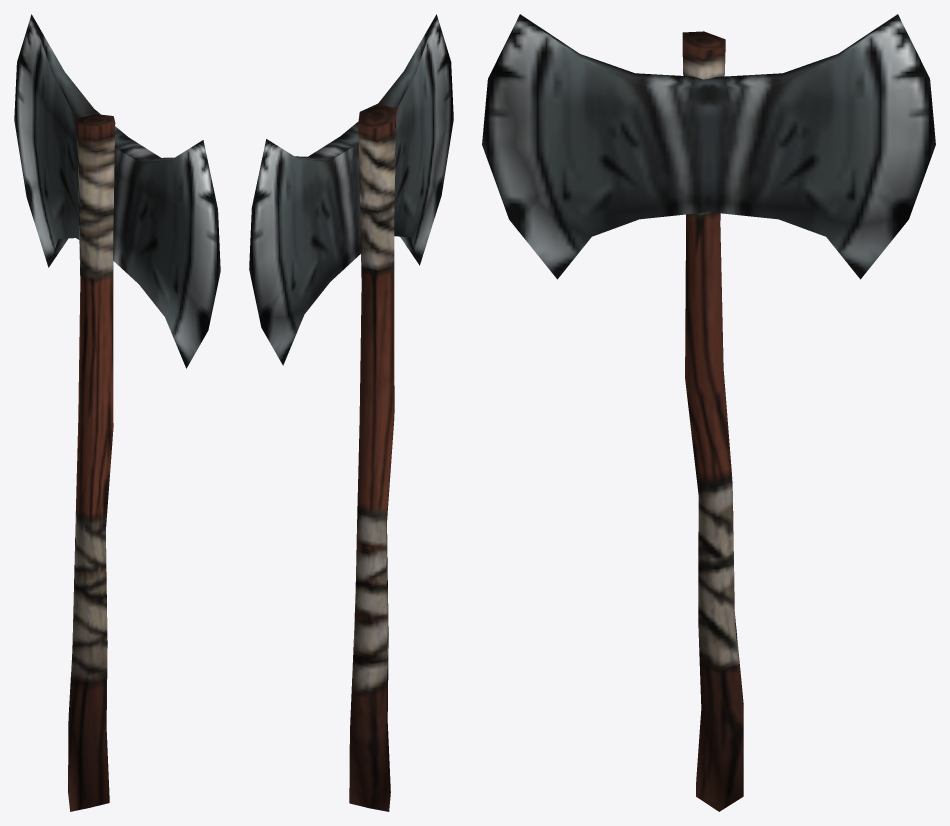
File: WP_2H_GreatAxe01.FBX
The picture shows the model from 3 angles, left to right: view 1: azimuth 30°, elevation 25°; view 2: azimuth 150°, elevation 25°; view 3: azimuth 270°, elevation 25°; orthographic projection. The views are drawn at different scales.
Visible parts, largest first — view 1: WP_2H_GreatAxe01; view 2: WP_2H_GreatAxe01; view 3: WP_2H_GreatAxe01.
Boxes of the visible parts, left/top/right/bottom form: WP_2H_GreatAxe01: left=14, top=14, right=220, bottom=811; WP_2H_GreatAxe01: left=249, top=14, right=453, bottom=811; WP_2H_GreatAxe01: left=482, top=14, right=935, bottom=811.
Size of the model in its own units: 12.18 by 158 by 81.03.
